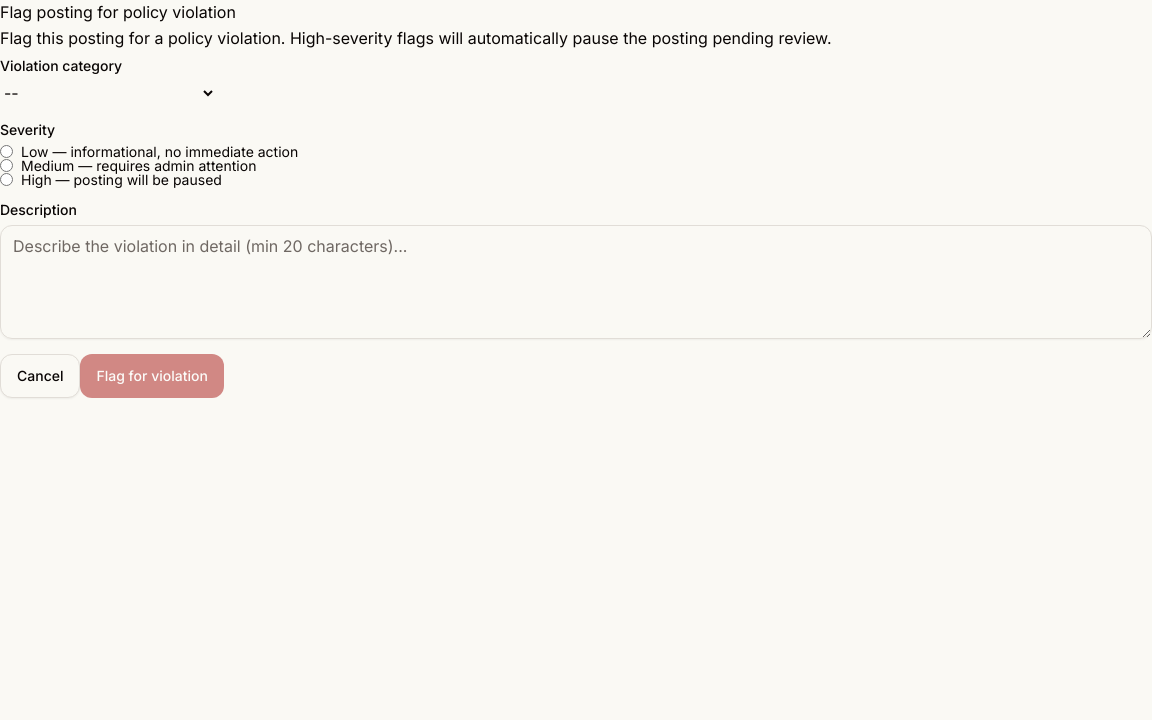
it: FlagPostingModal › shows confirmation step after clicking proceed
Select "Other" in the dropdown with test id "flag-category-select": coordinates (108, 93) left=0, top=82, right=216, bottom=104
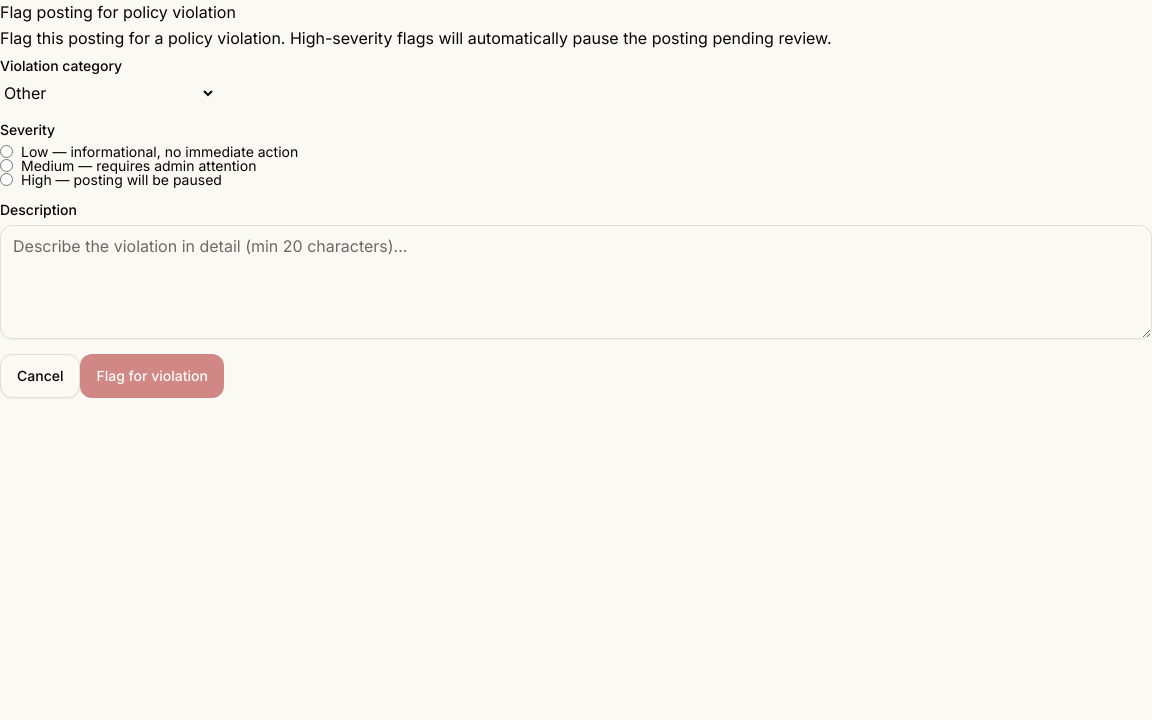
Click the radio button labelled "Low — informational, no immediate action": coordinates (6, 152) left=0, top=145, right=13, bottom=158
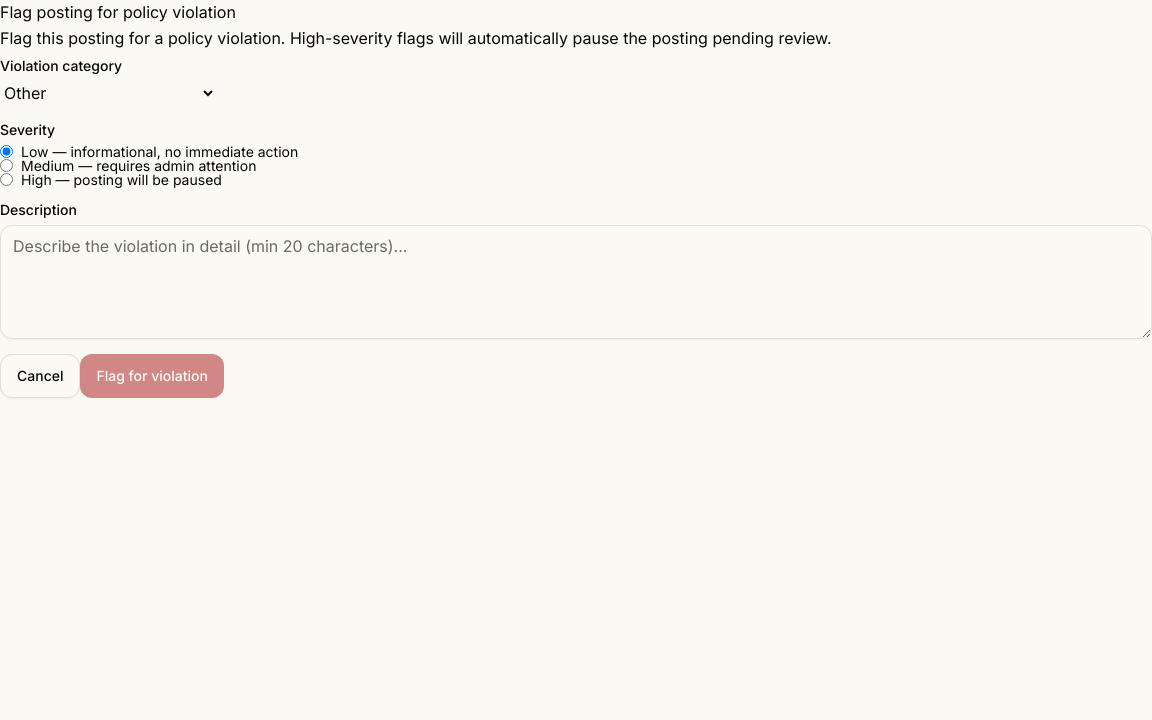
In the text box with test id "flag-description-textarea": coordinates (576, 282) left=0, top=225, right=1151, bottom=339, type "This posting contains misleading information about the role."
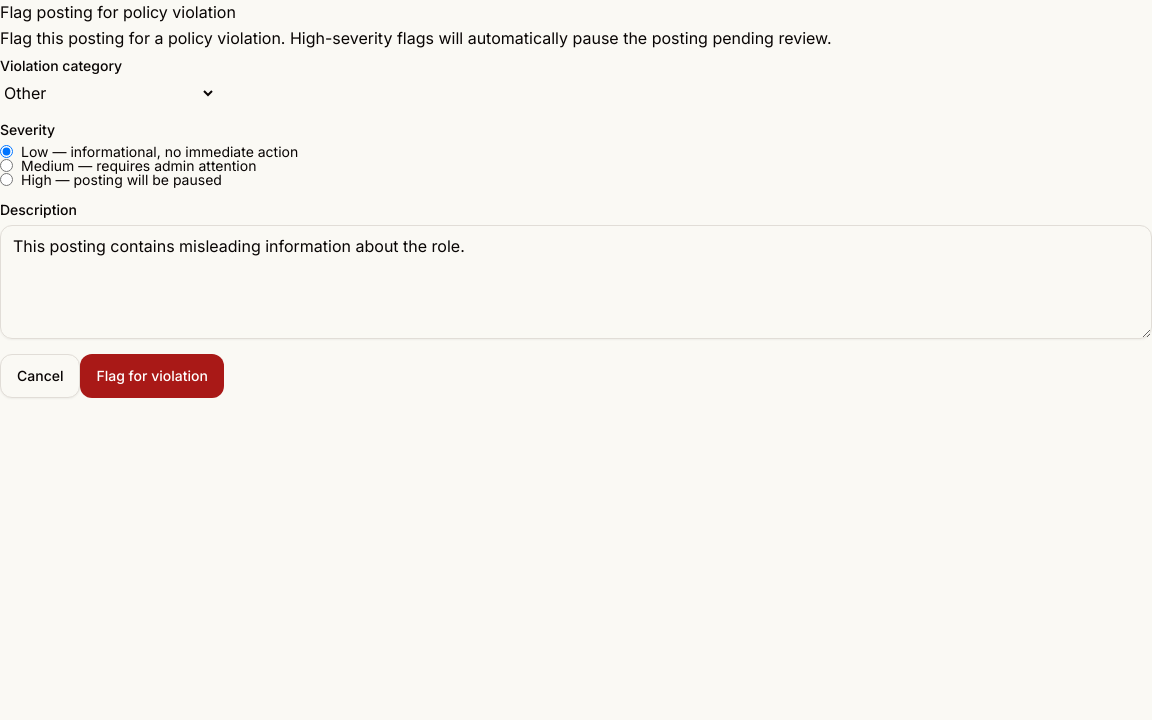
Click the button with test id "flag-proceed-button": coordinates (152, 376) left=80, top=354, right=224, bottom=398
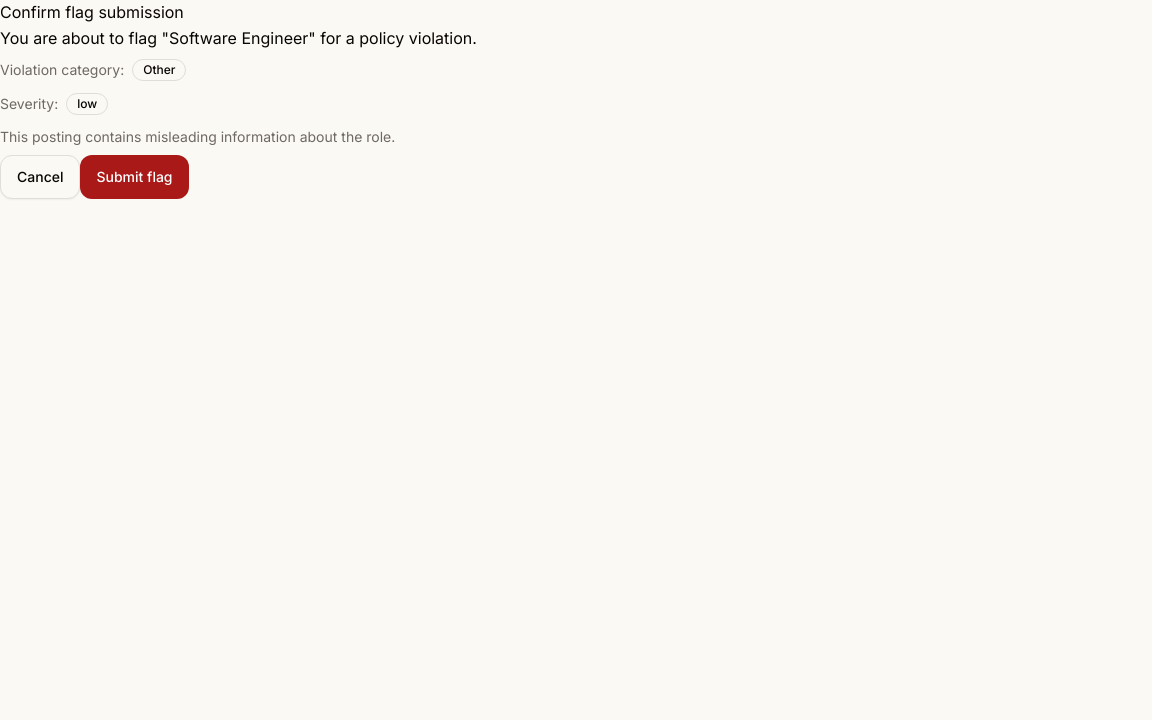
Expected: the button with test id "flag-confirm-submit" is shown, left=80, top=155, right=188, bottom=199
Expected: the button with test id "flag-confirm-back" is shown, left=0, top=155, right=80, bottom=199
